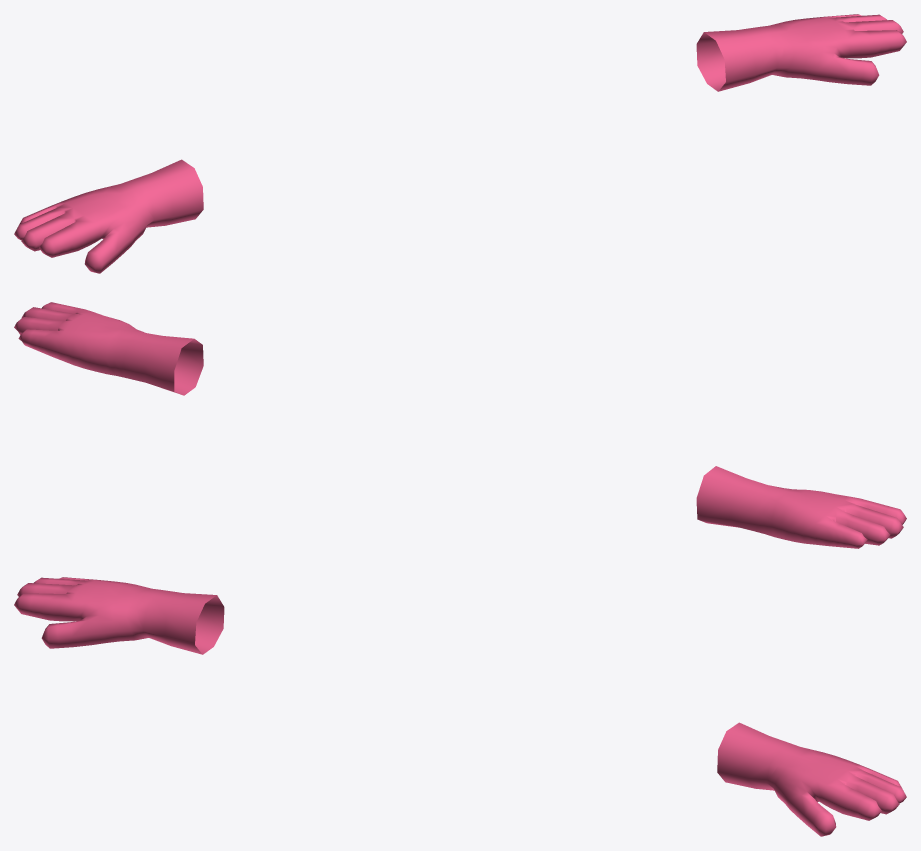
File: Glove_012.glb
The picture shows the model from 3 angles, top to bottom: view 1: azimuth 30°, elevation 25°; view 2: azimuth 150°, elevation 25°; view 3: azimuth 330°, elevation 25°; orthographic projection.
Parts seen in each view (by area): view 1: Glove_012; view 2: Glove_012; view 3: Glove_012.
Part boxes in pixels (box(x1,y1,x2,y2)): Glove_012: box(14, 14, 906, 273); Glove_012: box(14, 302, 906, 548); Glove_012: box(14, 577, 906, 836).
Bounding box in the file's own units: 1.82 × 0.1076 × 0.1887.
Materials: 1 (1 with a texture image).
